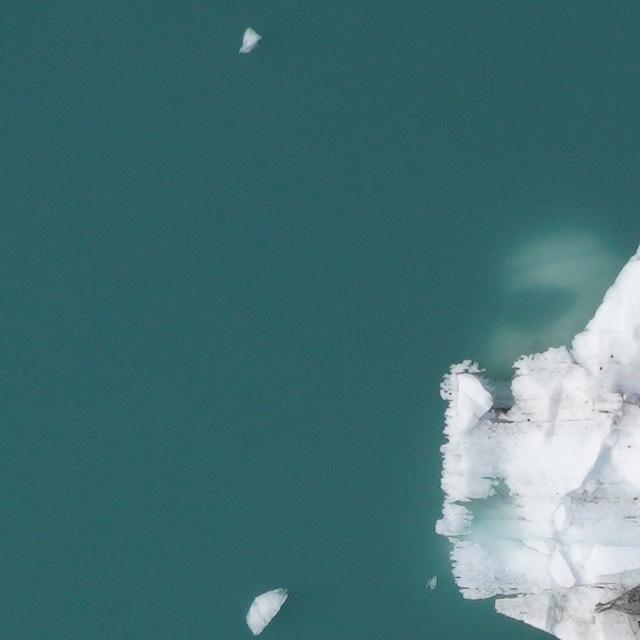seal: (596, 584, 639, 615)
